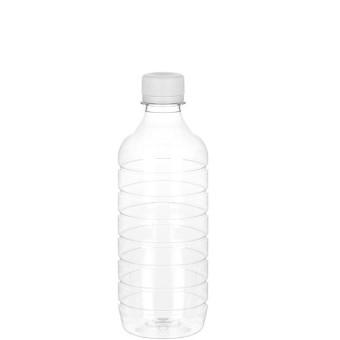bottle: (115, 71, 207, 338)
